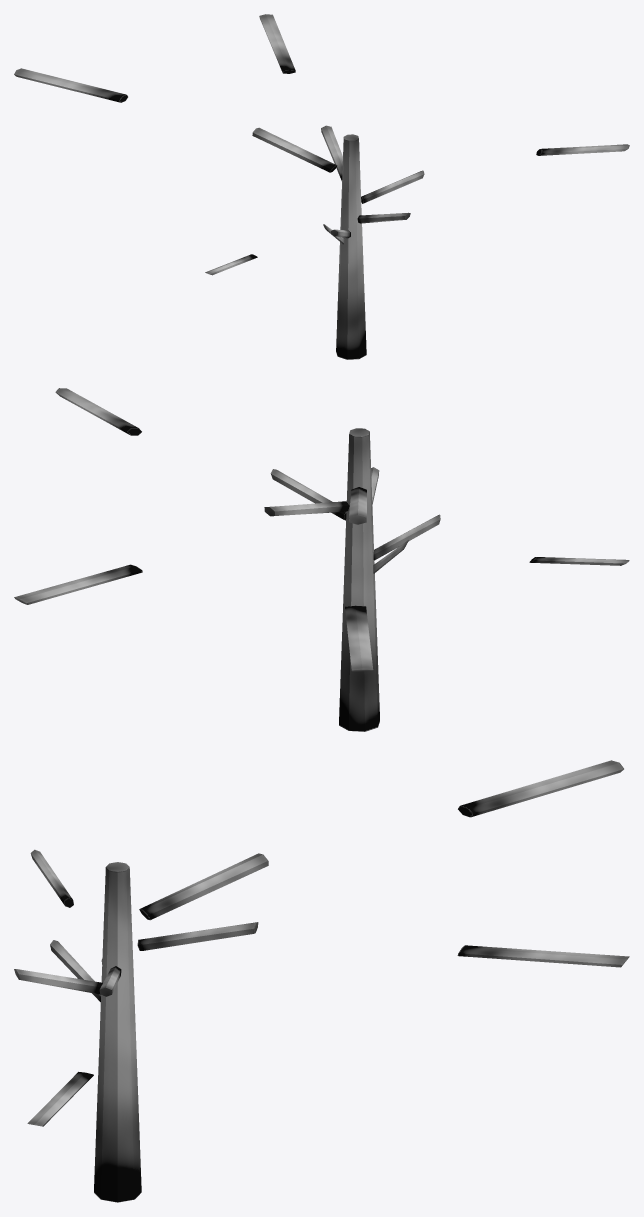
Rendered from tree_dead_3.glb.
3 views of the same model, one above another, from view 1: azimuth 30°, elevation 25°; view 2: azimuth 150°, elevation 25°; view 3: azimuth 270°, elevation 25° (orthographic). The views are drawn at different scales.
Parts seen in each view (by area): view 1: tree_dead_3; view 2: tree_dead_3; view 3: tree_dead_3.
Part boxes in pixels (x1,y1,x2,y2): tree_dead_3: (14, 14, 629, 359); tree_dead_3: (14, 388, 629, 731); tree_dead_3: (14, 760, 629, 1202).
Size of the model in its own units: 4.33 by 2.1 by 3.6.
1 material, 1 textured.
